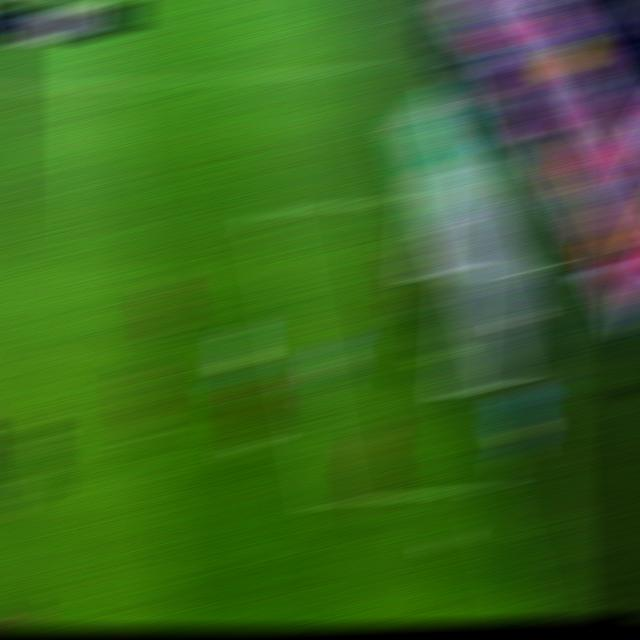bigarea_top_outter: (344, 62, 377, 75)
bottom_arc_area_intersection: (0, 486, 17, 519)
smallarea_bottom_inner: (305, 485, 351, 517)
smallarea_bottom_outter: (464, 472, 507, 503)
smallarea_top_inner: (249, 198, 291, 225)
smallarea_top_outter: (379, 187, 420, 213)
